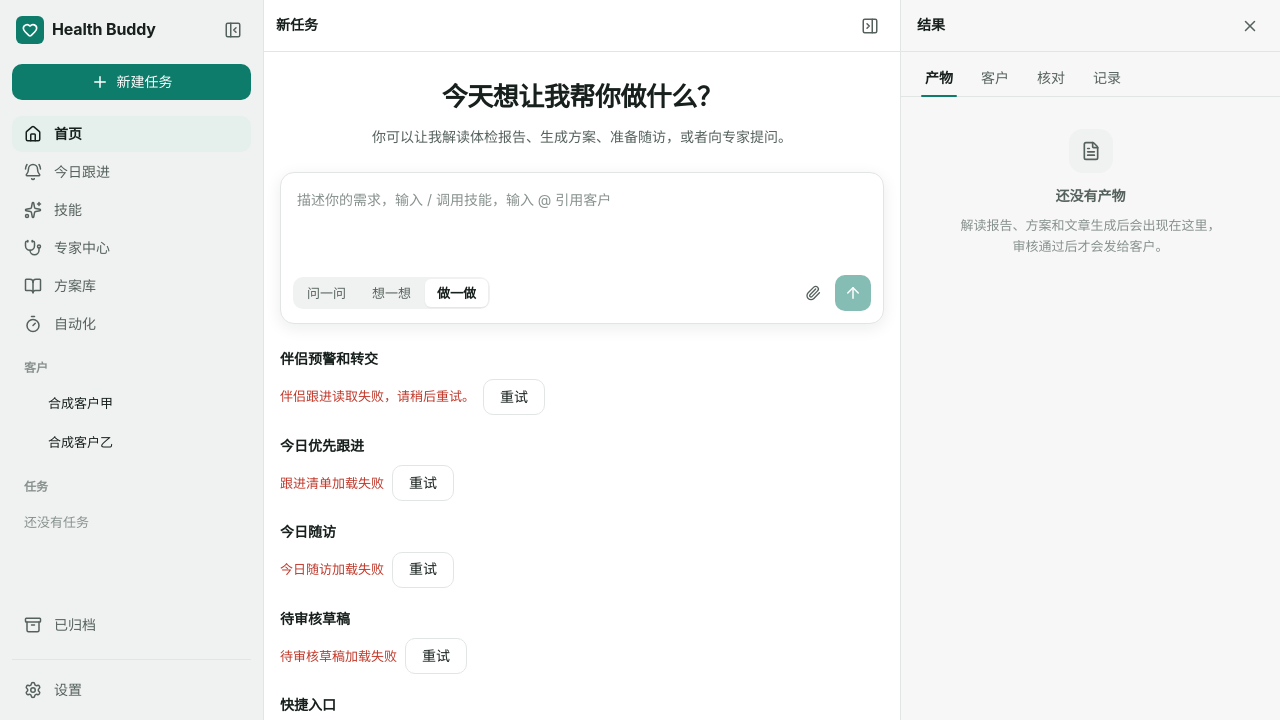
专家库和专家中心提问（规格 2.2、2.3） › 专家预览没开（列表为空）时专家库显示空状态
Click the button "专家中心" at (132, 248), box [12, 230, 251, 266]
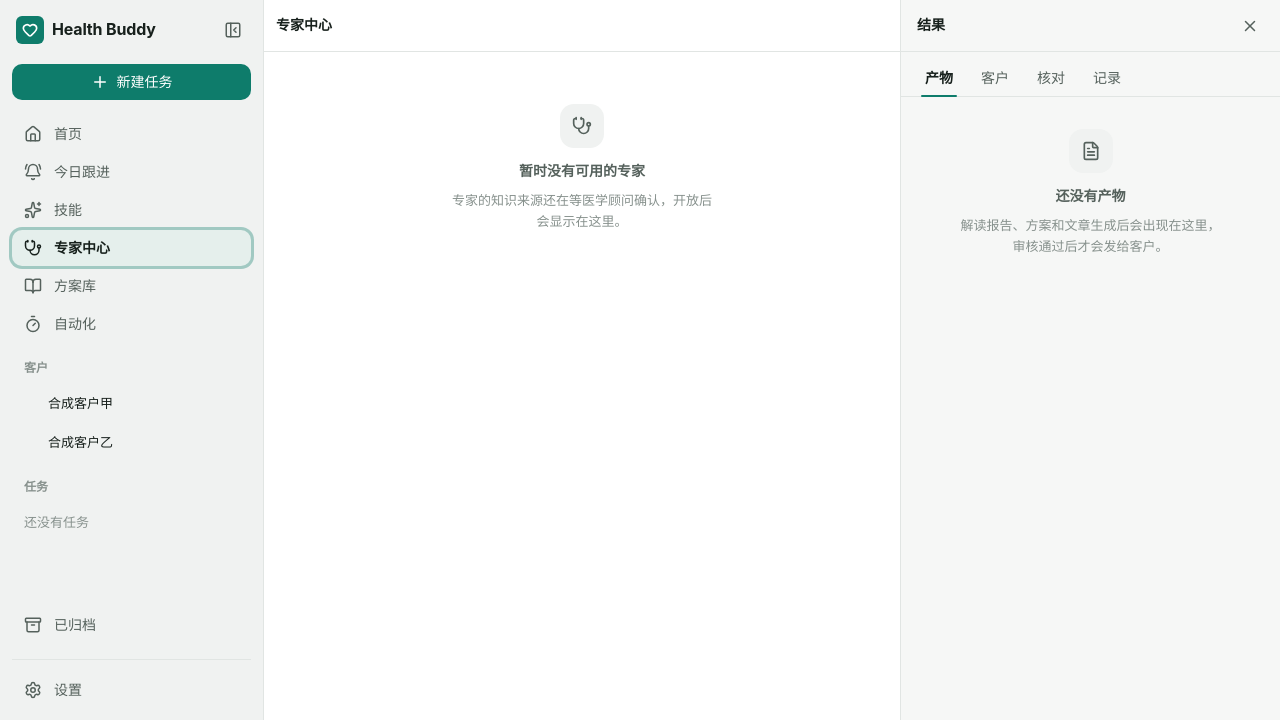
expect the text "暂时没有可用的专家" is shown: met, box [519, 160, 645, 182]
